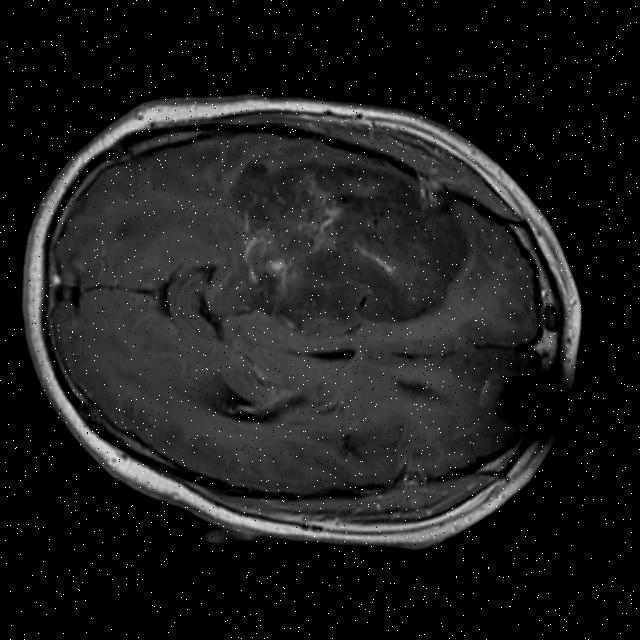Glioma: (217, 148, 481, 352)
